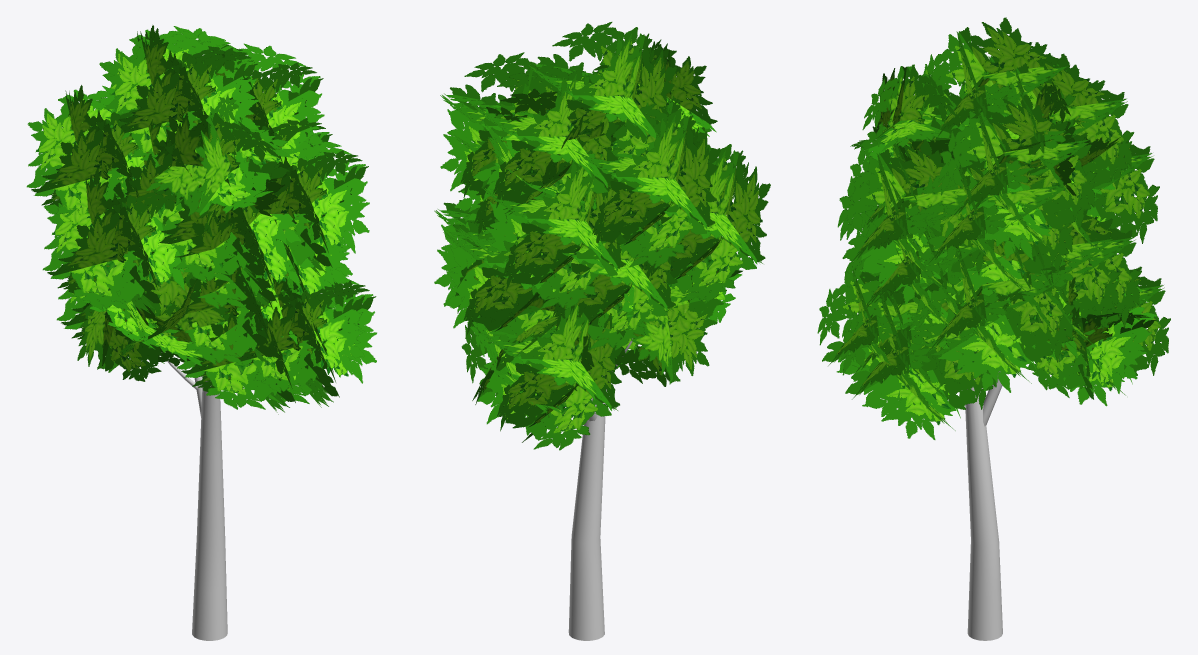
The model's file is BirchLOD0.fbx.
3 renders of one model, left to right at view 1: azimuth 30°, elevation 25°; view 2: azimuth 150°, elevation 25°; view 3: azimuth 270°, elevation 25°, orthographic. The views are drawn at different scales.
Visible parts, largest first — view 1: Plane.017, BirchLOD0; view 2: Plane.017, BirchLOD0; view 3: Plane.017, BirchLOD0.
Part boxes in pixels (x1=…): Plane.017: x1=26, y1=25, x2=376, y2=414; BirchLOD0: x1=161, y1=352, x2=227, y2=640; Plane.017: x1=434, y1=22, x2=770, y2=450; BirchLOD0: x1=568, y1=338, x2=632, y2=640; Plane.017: x1=817, y1=17, x2=1170, y2=439; BirchLOD0: x1=965, y1=371, x2=1005, y2=640.
Size of the model in its own units: 631 by 1164 by 657.
